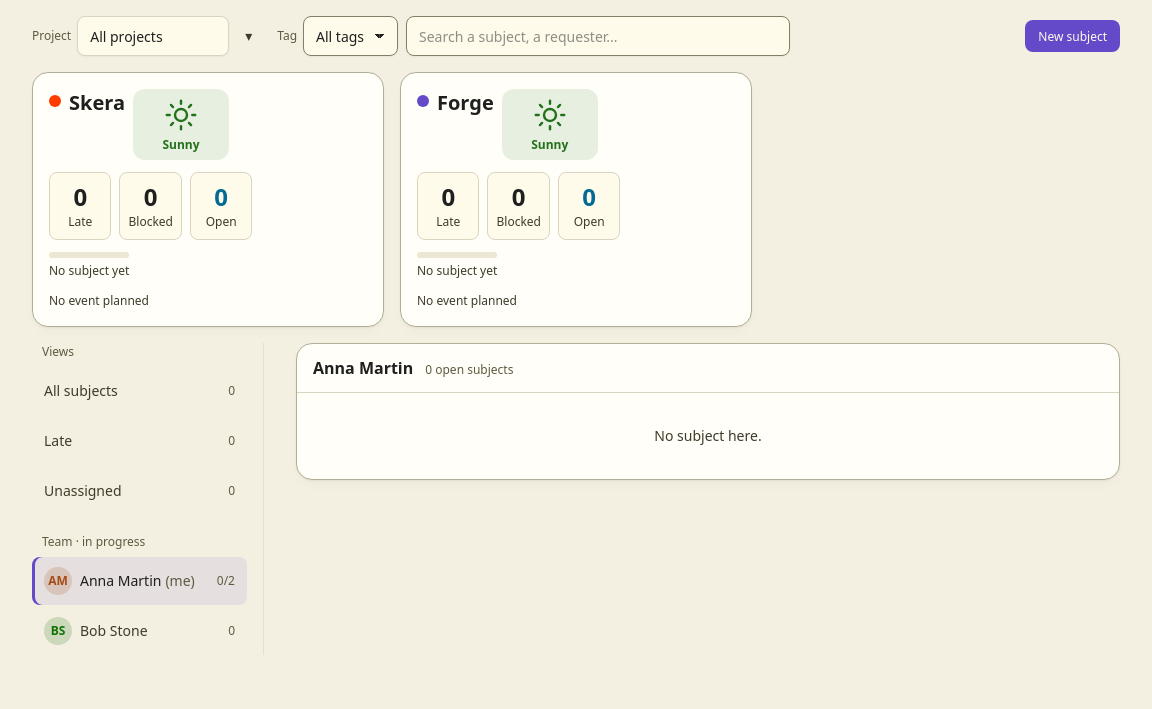
Test: SubjectsScreen actions › creates a subject from the toolbar and shows it without a reload
Click the button with test id "subjects-new" at {"x": 1073, "y": 36}, box left=1025, top=20, right=1120, bottom=52
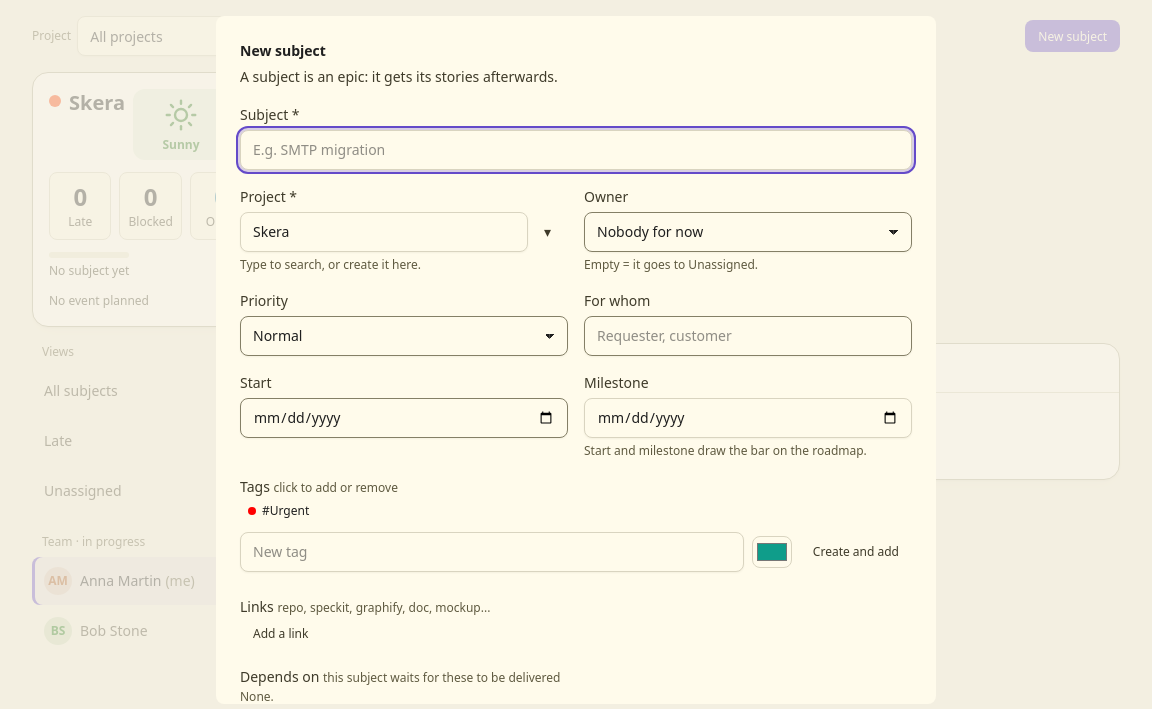
Expected: the field with test id "subject-form-title" is shown
Type "Cloudmail" into the field with test id "subject-form-title" at {"x": 576, "y": 150}, box left=240, top=130, right=912, bottom=170
(page scrolled)
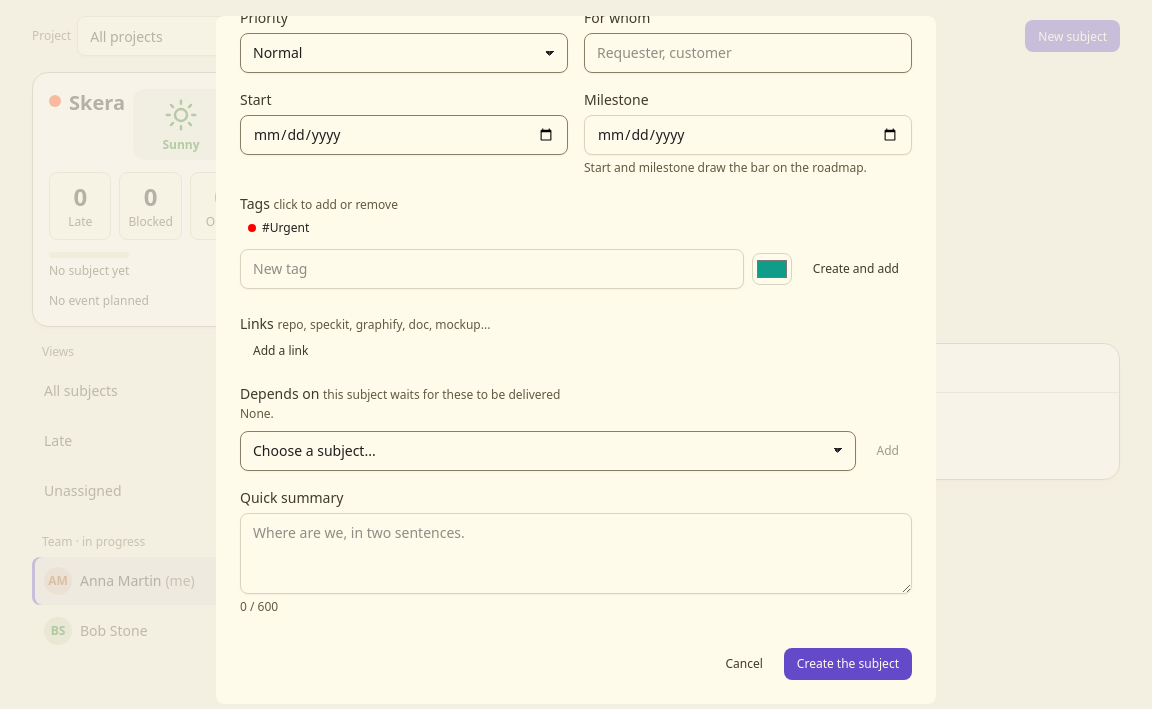
Click the button with test id "subject-form-submit" at {"x": 848, "y": 664}, box left=784, top=648, right=912, bottom=680
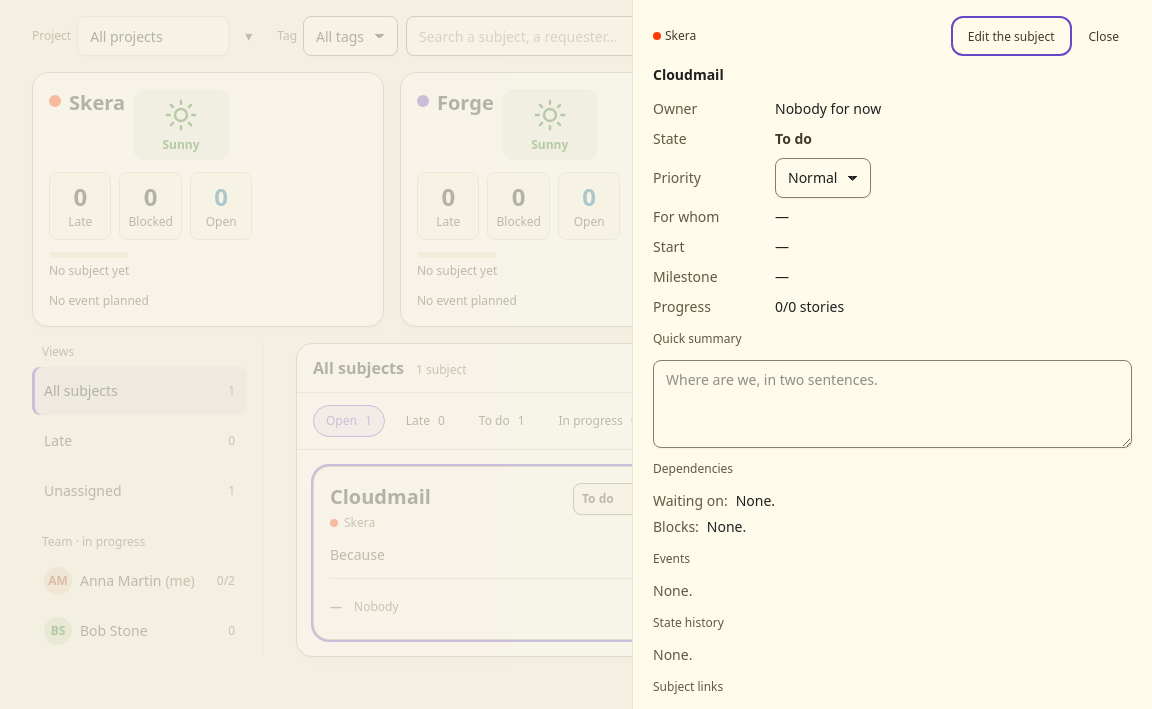
Expected: the dialog with test id "subject-form-dialog" is gone
